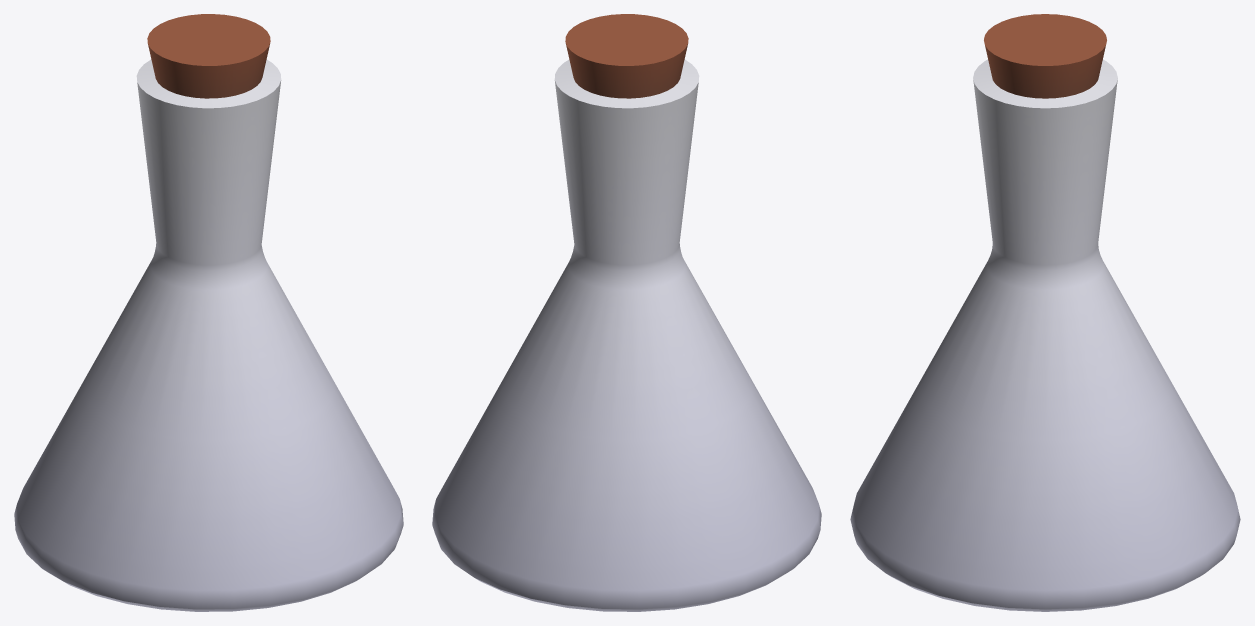
The model's file is Potion-flat.fbx.
The picture shows the model from 3 angles, left to right: view 1: azimuth 30°, elevation 25°; view 2: azimuth 150°, elevation 25°; view 3: azimuth 270°, elevation 25°; orthographic projection.
Visible parts, largest first — view 1: Potion-flat; view 2: Potion-flat; view 3: Potion-flat.
Boxes of the visible parts, <box> form: Potion-flat: <box>14,14,403,611</box>; Potion-flat: <box>432,14,821,611</box>; Potion-flat: <box>850,14,1240,611</box>.
Bounding box in the file's own units: 16.24 × 22.77 × 16.24.
